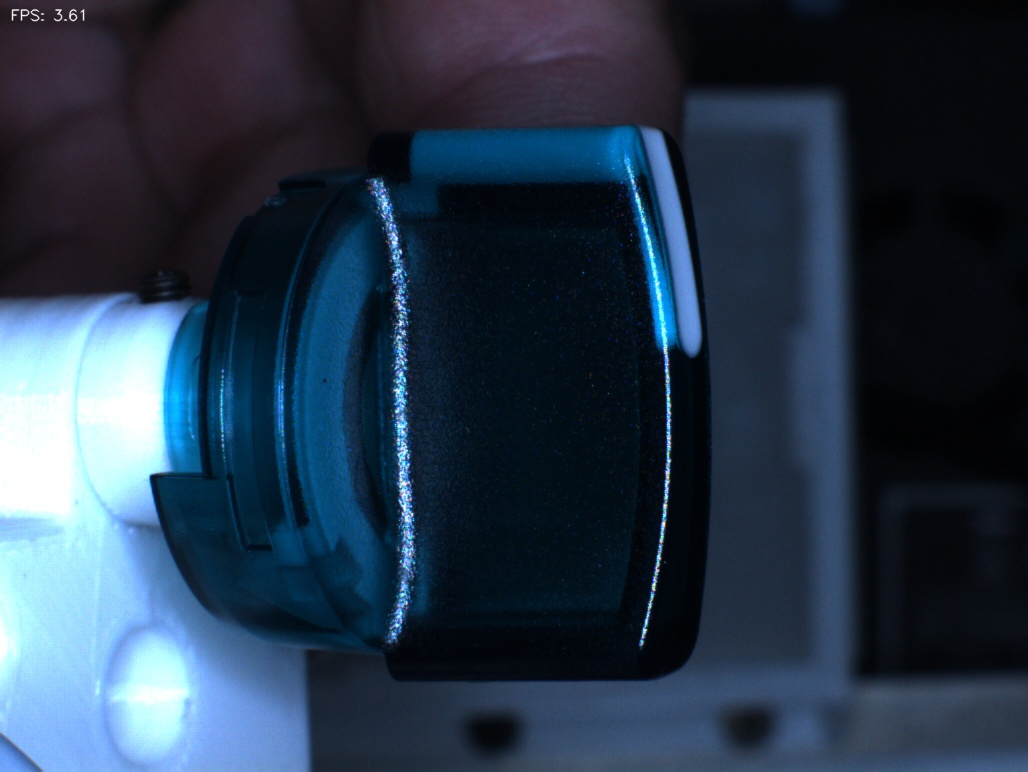PointNoir: (293, 349, 361, 420)
